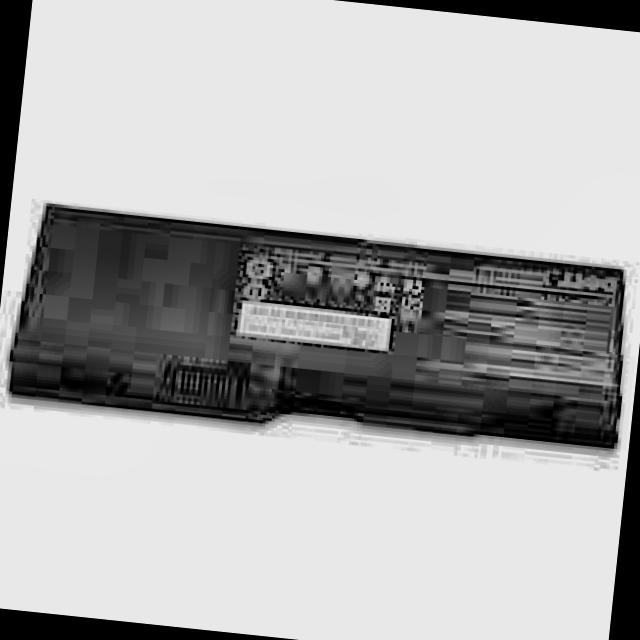Battery: (2, 209, 632, 463)
